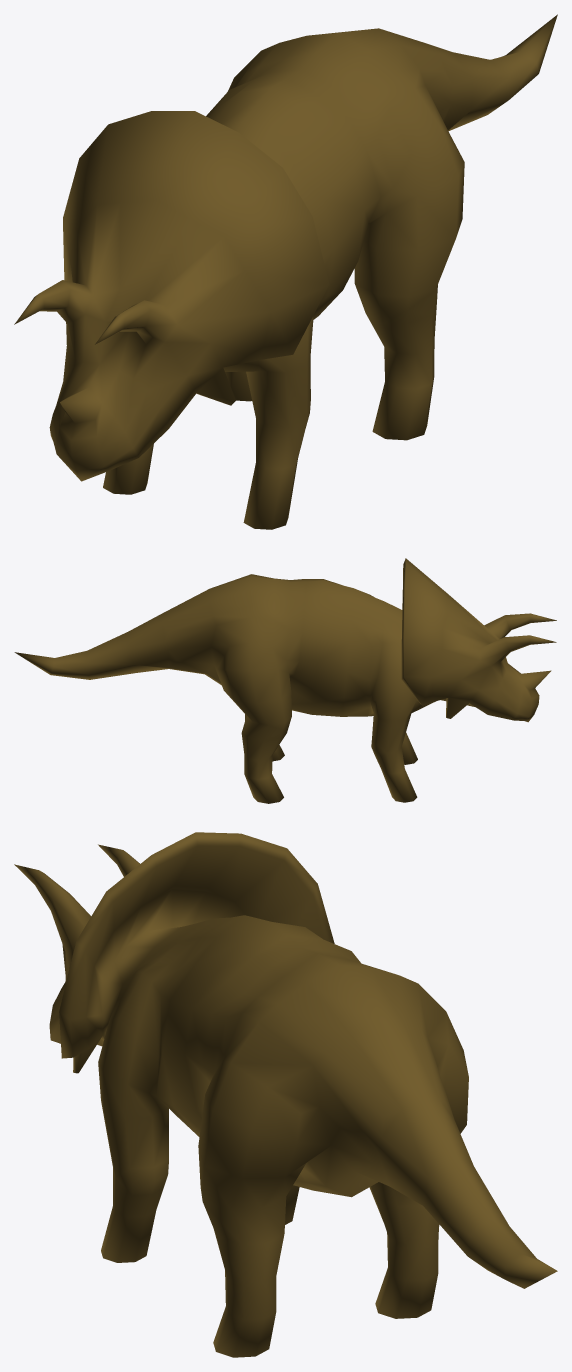
Rendered from triceratops2.obj.
The picture shows the model from 3 angles, top to bottom: view 1: azimuth 30°, elevation 25°; view 2: azimuth 150°, elevation 25°; view 3: azimuth 270°, elevation 25°; orthographic projection. The views are drawn at different scales.
Visible parts, largest first — view 1: Triceratops_Triceratops_Triceratops_FinalNormalTriceratop; view 2: Triceratops_Triceratops_Triceratops_FinalNormalTriceratop; view 3: Triceratops_Triceratops_Triceratops_FinalNormalTriceratop.
Boxes of the visible parts, left/top/right/bottom form: Triceratops_Triceratops_Triceratops_FinalNormalTriceratop: left=14, top=14, right=557, bottom=529; Triceratops_Triceratops_Triceratops_FinalNormalTriceratop: left=14, top=558, right=556, bottom=803; Triceratops_Triceratops_Triceratops_FinalNormalTriceratop: left=14, top=832, right=557, bottom=1357.
Bounding box in the file's own units: 9.77 × 4.77 × 5.84.
